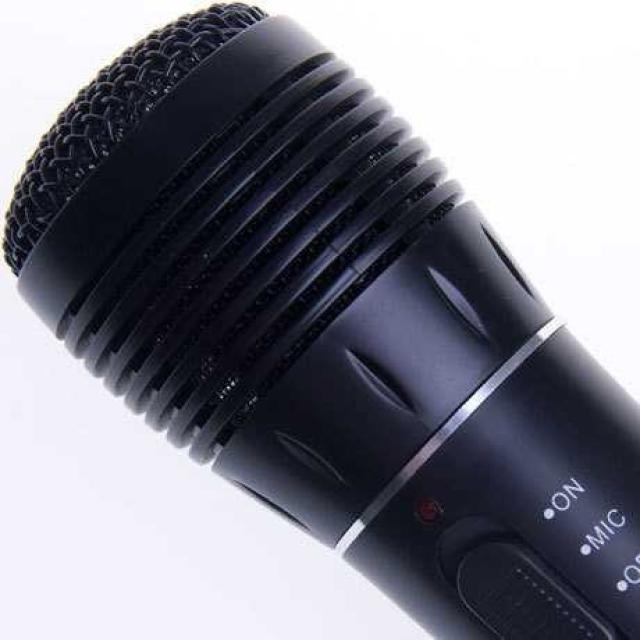microphone: (1, 2, 627, 634)
